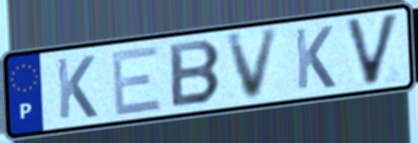B: (167, 38, 224, 110)
E: (108, 43, 164, 119)
K: (53, 53, 100, 122), (291, 24, 338, 93)
V: (342, 10, 403, 90), (223, 25, 283, 104)
